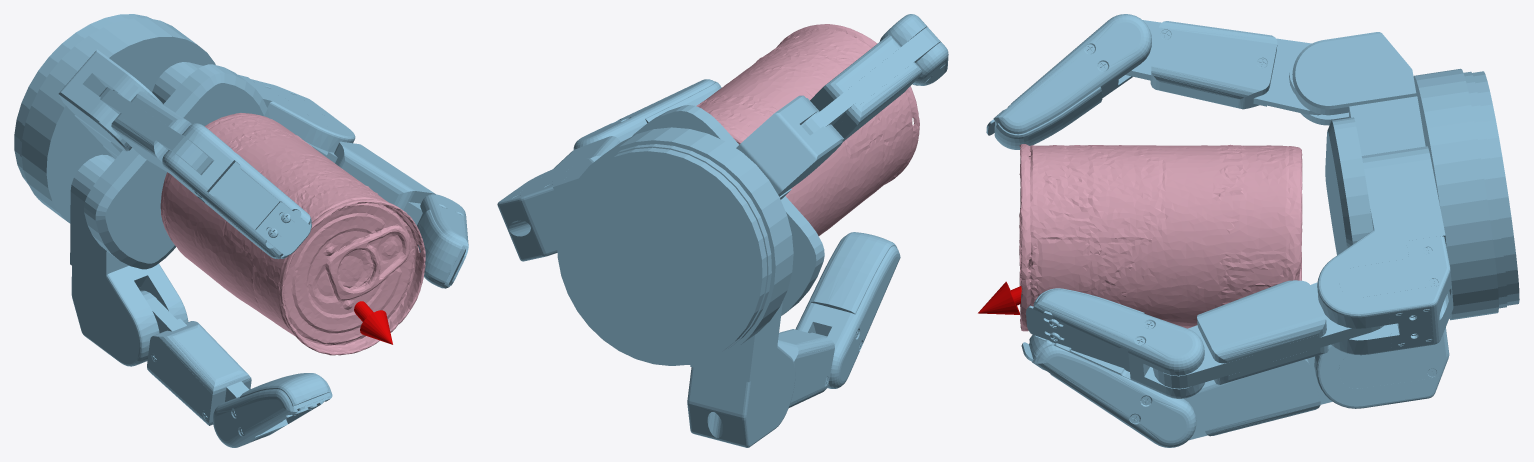
3 views of the same model, side by side, from view 1: azimuth 30°, elevation 25°; view 2: azimuth 150°, elevation 25°; view 3: azimuth 270°, elevation 25° (orthographic). The views are drawn at different scales.
Visible parts, largest first — view 1: world, tomato_soup_can.stl; view 2: world, tomato_soup_can.stl; view 3: world, tomato_soup_can.stl.
Part boxes in pixels (x1,y1,x2,y2): world: [14, 14, 468, 447]; tomato_soup_can.stl: [160, 113, 425, 355]; world: [497, 14, 948, 447]; tomato_soup_can.stl: [696, 24, 919, 235]; world: [978, 14, 1519, 447]; tomato_soup_can.stl: [1019, 144, 1302, 331].
Bounding box in the file's own units: 0.1497 × 0.1546 × 0.195.
